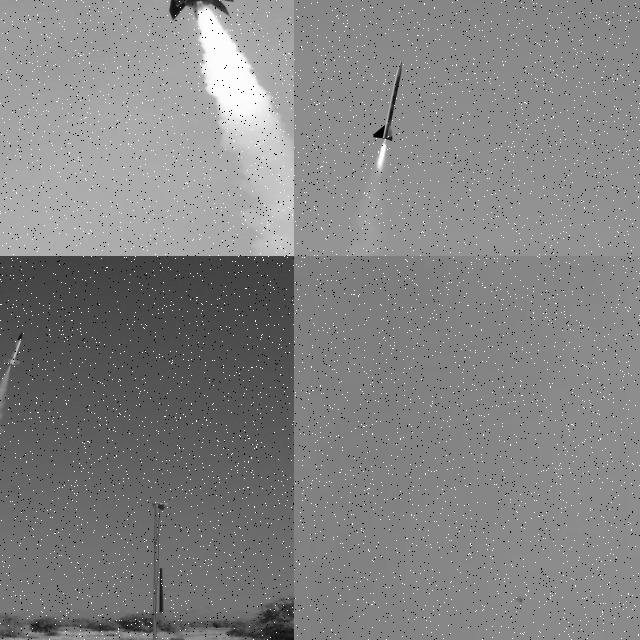Rocket: (372, 60, 402, 142), (4, 331, 23, 366), (515, 596, 523, 605)
